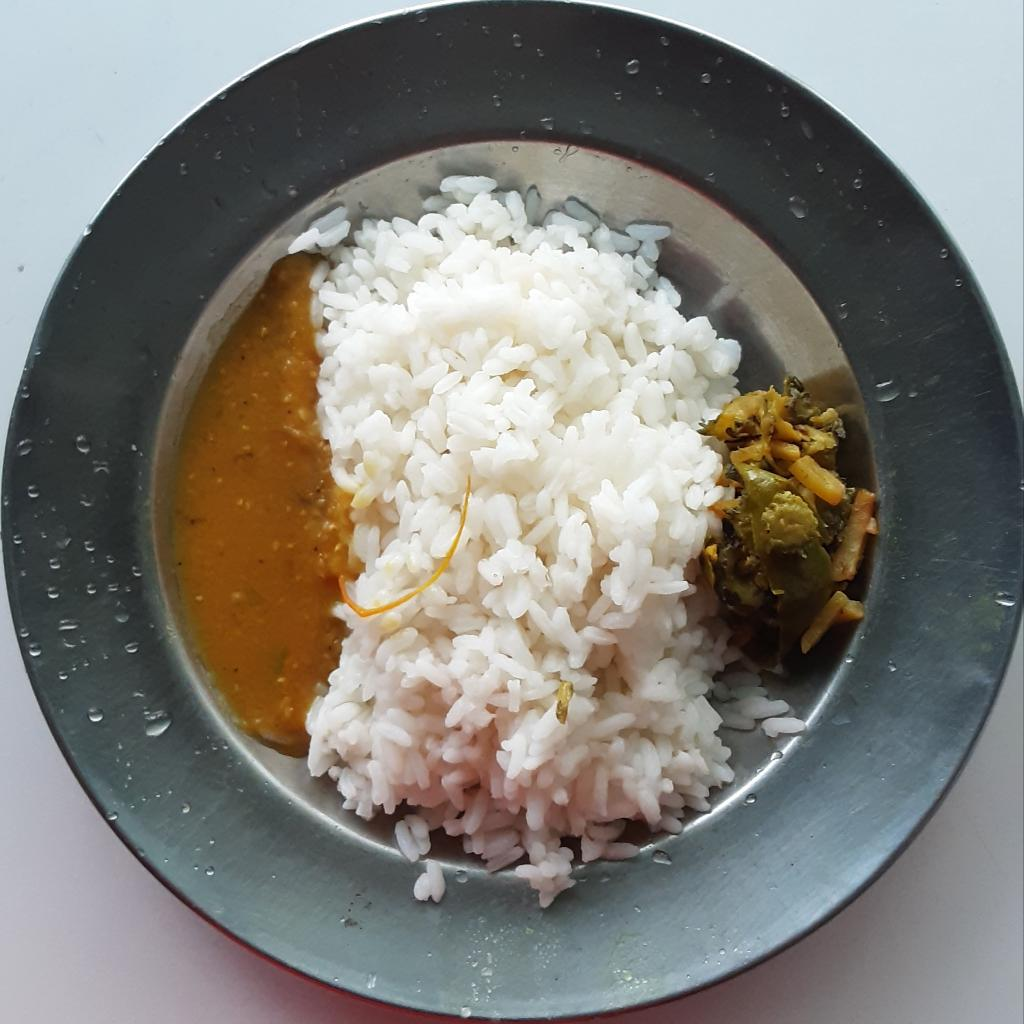daal: (170, 247, 353, 761)
rice: (287, 166, 809, 909)
vegetable: (710, 373, 877, 657)
